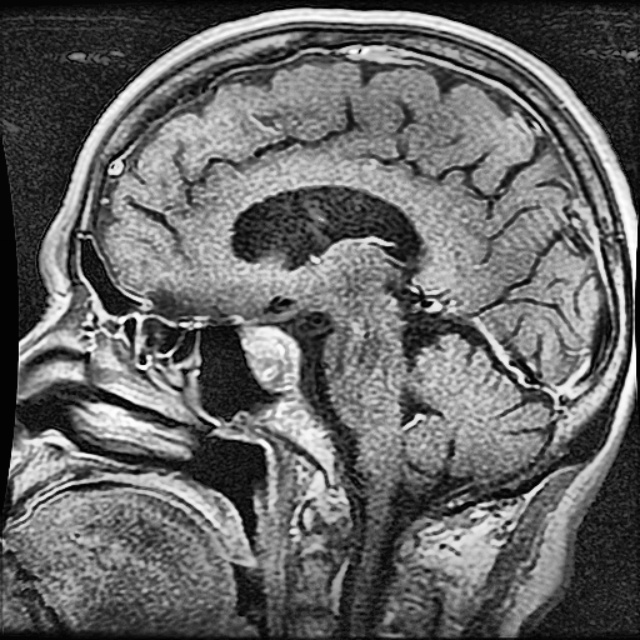Pituitary: (240, 324, 300, 389)
